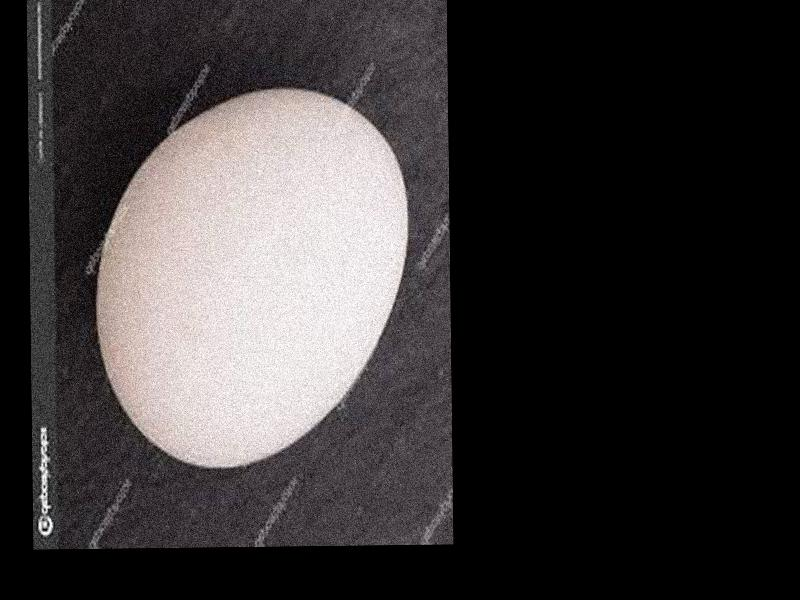Eggs: (92, 87, 408, 468)
